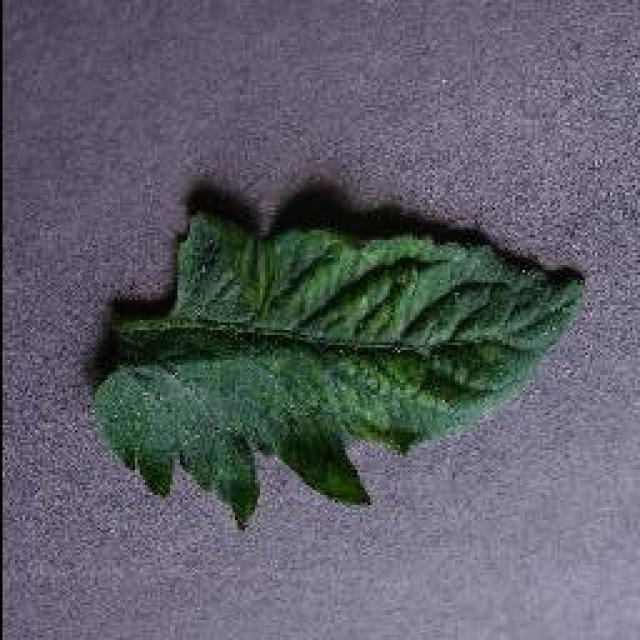Tomato___Tomato_mosaic_virus: (92, 215, 578, 522)
